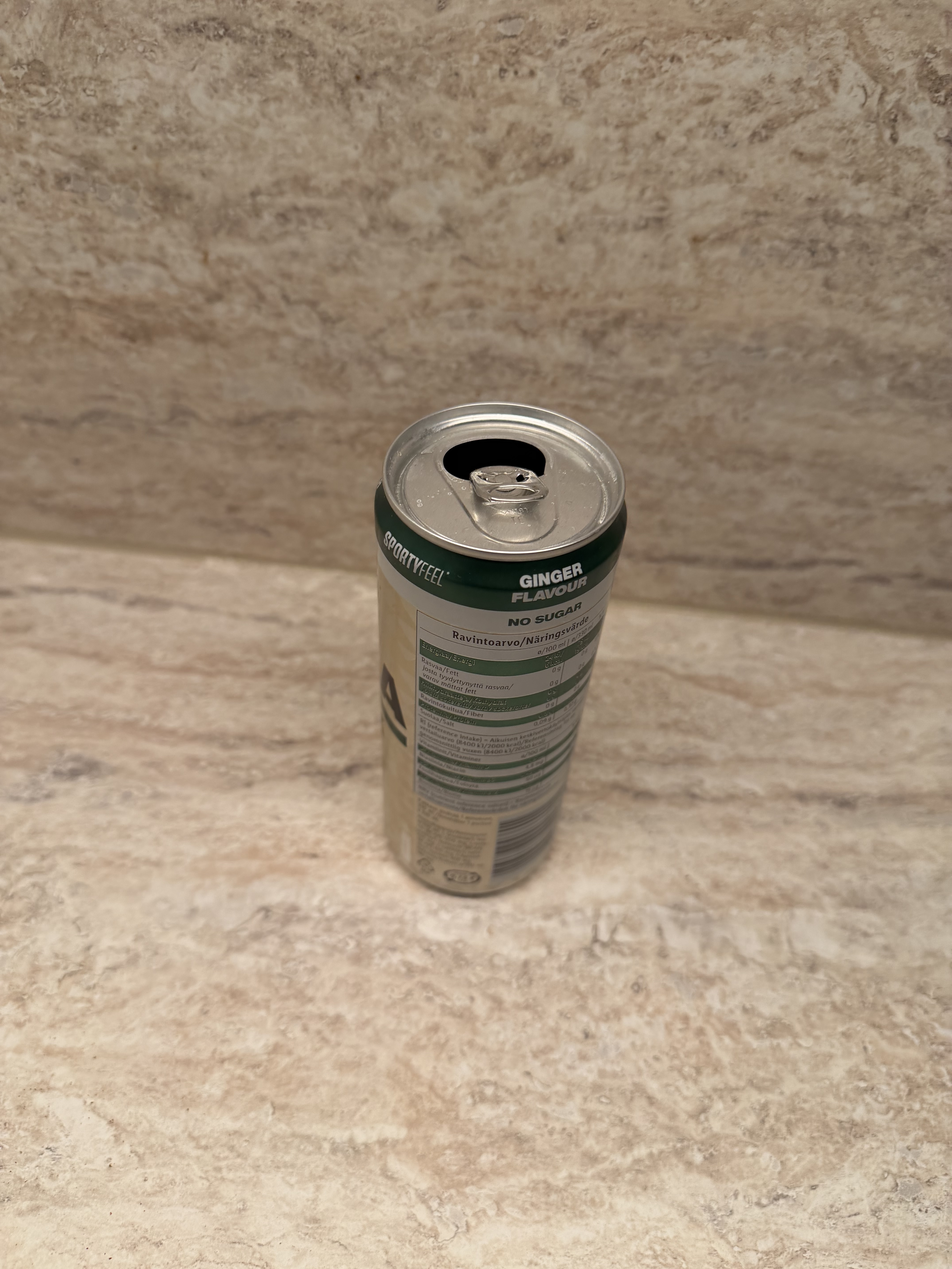Pantburk: (312, 366, 669, 918)
